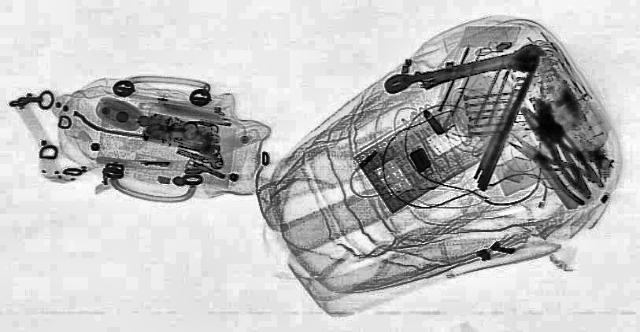Pliers: (486, 128, 620, 204), (506, 104, 610, 198)
Wrench: (372, 42, 556, 100)
